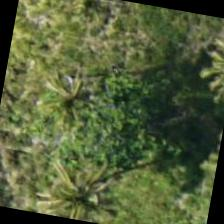Kelapa_Sawit: (14, 52, 119, 156), (27, 140, 130, 223), (33, 149, 135, 223)
